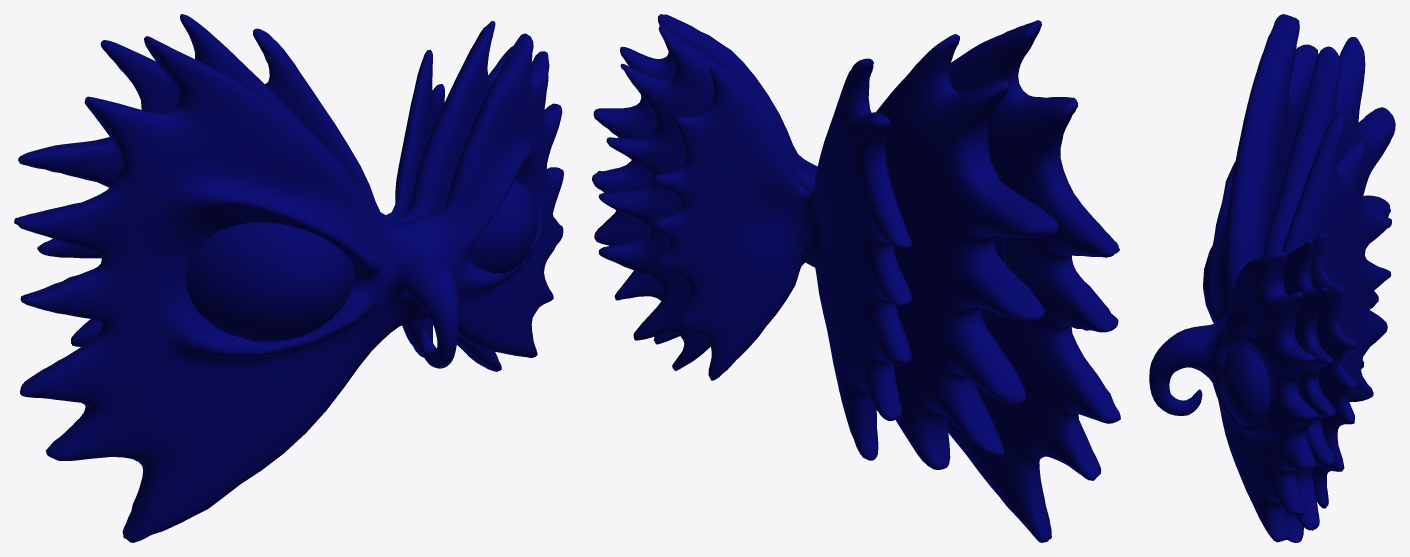
Rendered from Farfalla.fbx.
3 views of the same model, side by side, from view 1: azimuth 30°, elevation 25°; view 2: azimuth 150°, elevation 25°; view 3: azimuth 270°, elevation 25° (orthographic). The views are drawn at different scales.
Parts seen in each view (by area): view 1: polySurface6; view 2: polySurface6; view 3: polySurface6.
Part boxes in pixels (left/top/right/bottom): polySurface6: left=14, top=14, right=563, bottom=542; polySurface6: left=592, top=14, right=1120, bottom=542; polySurface6: left=1149, top=14, right=1395, bottom=542.
Bounding box in the file's own units: 401 × 363 × 181.
